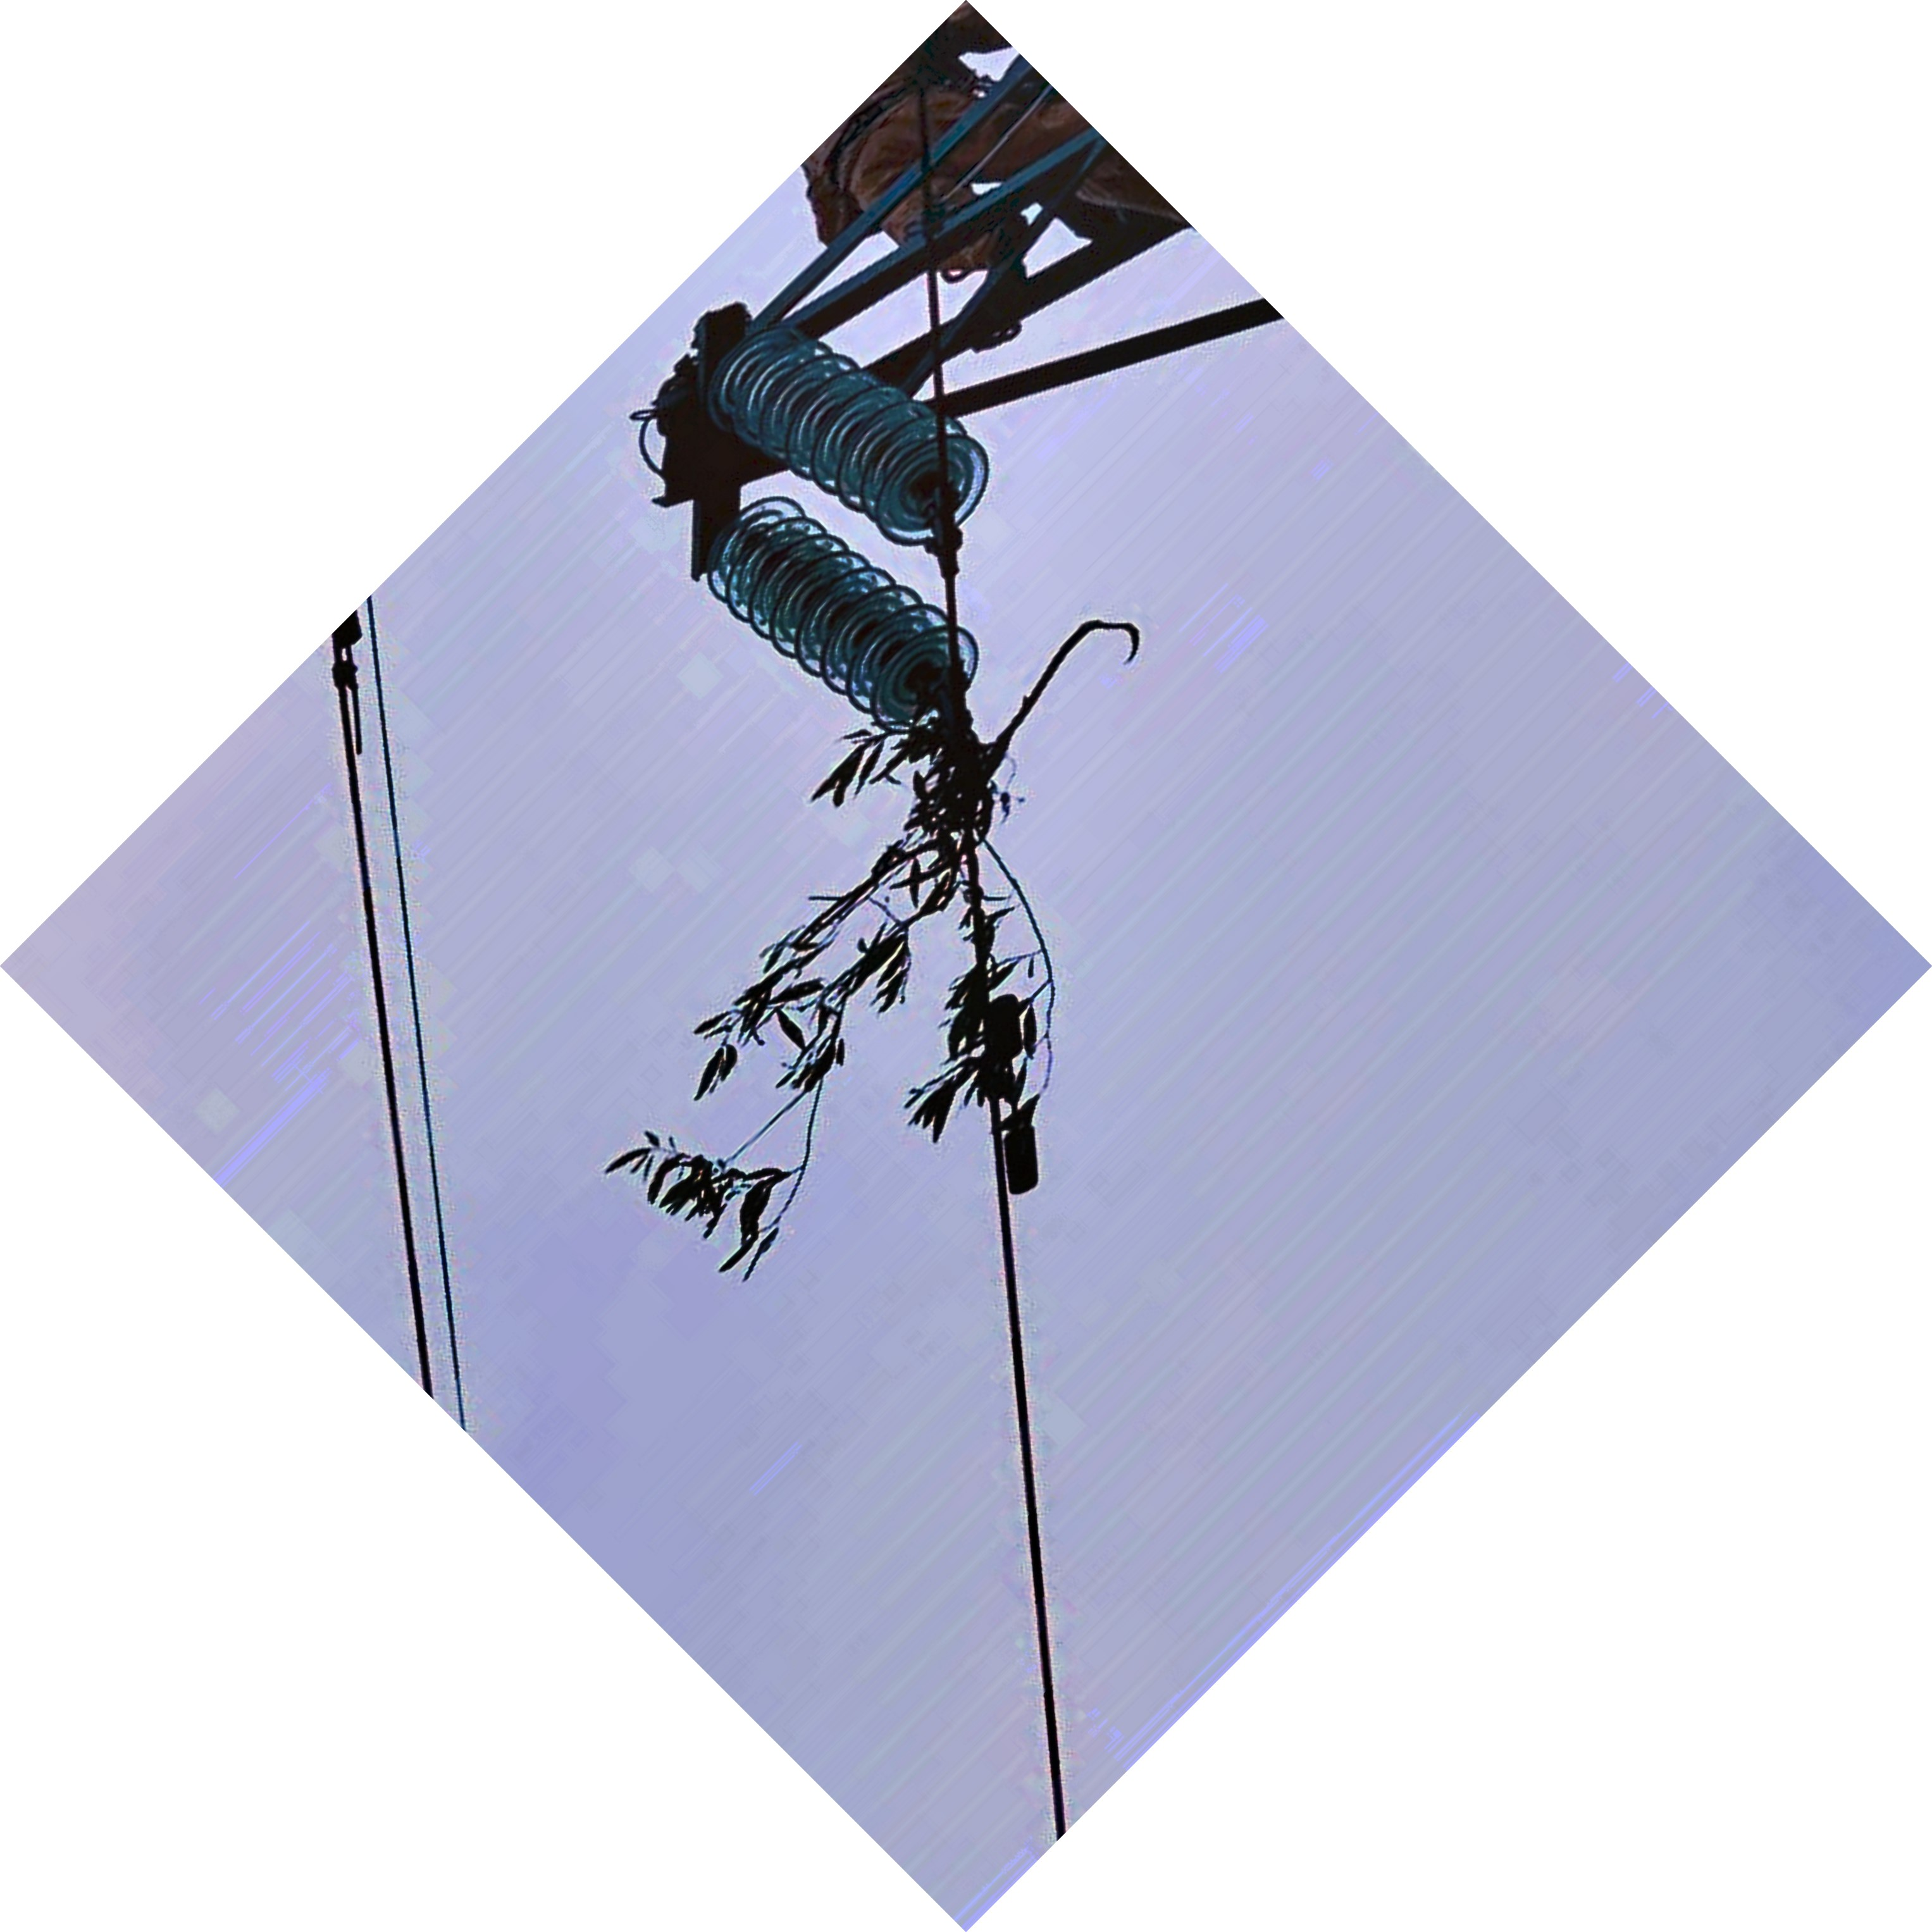wire foreign body: (674, 695, 1088, 1215)
